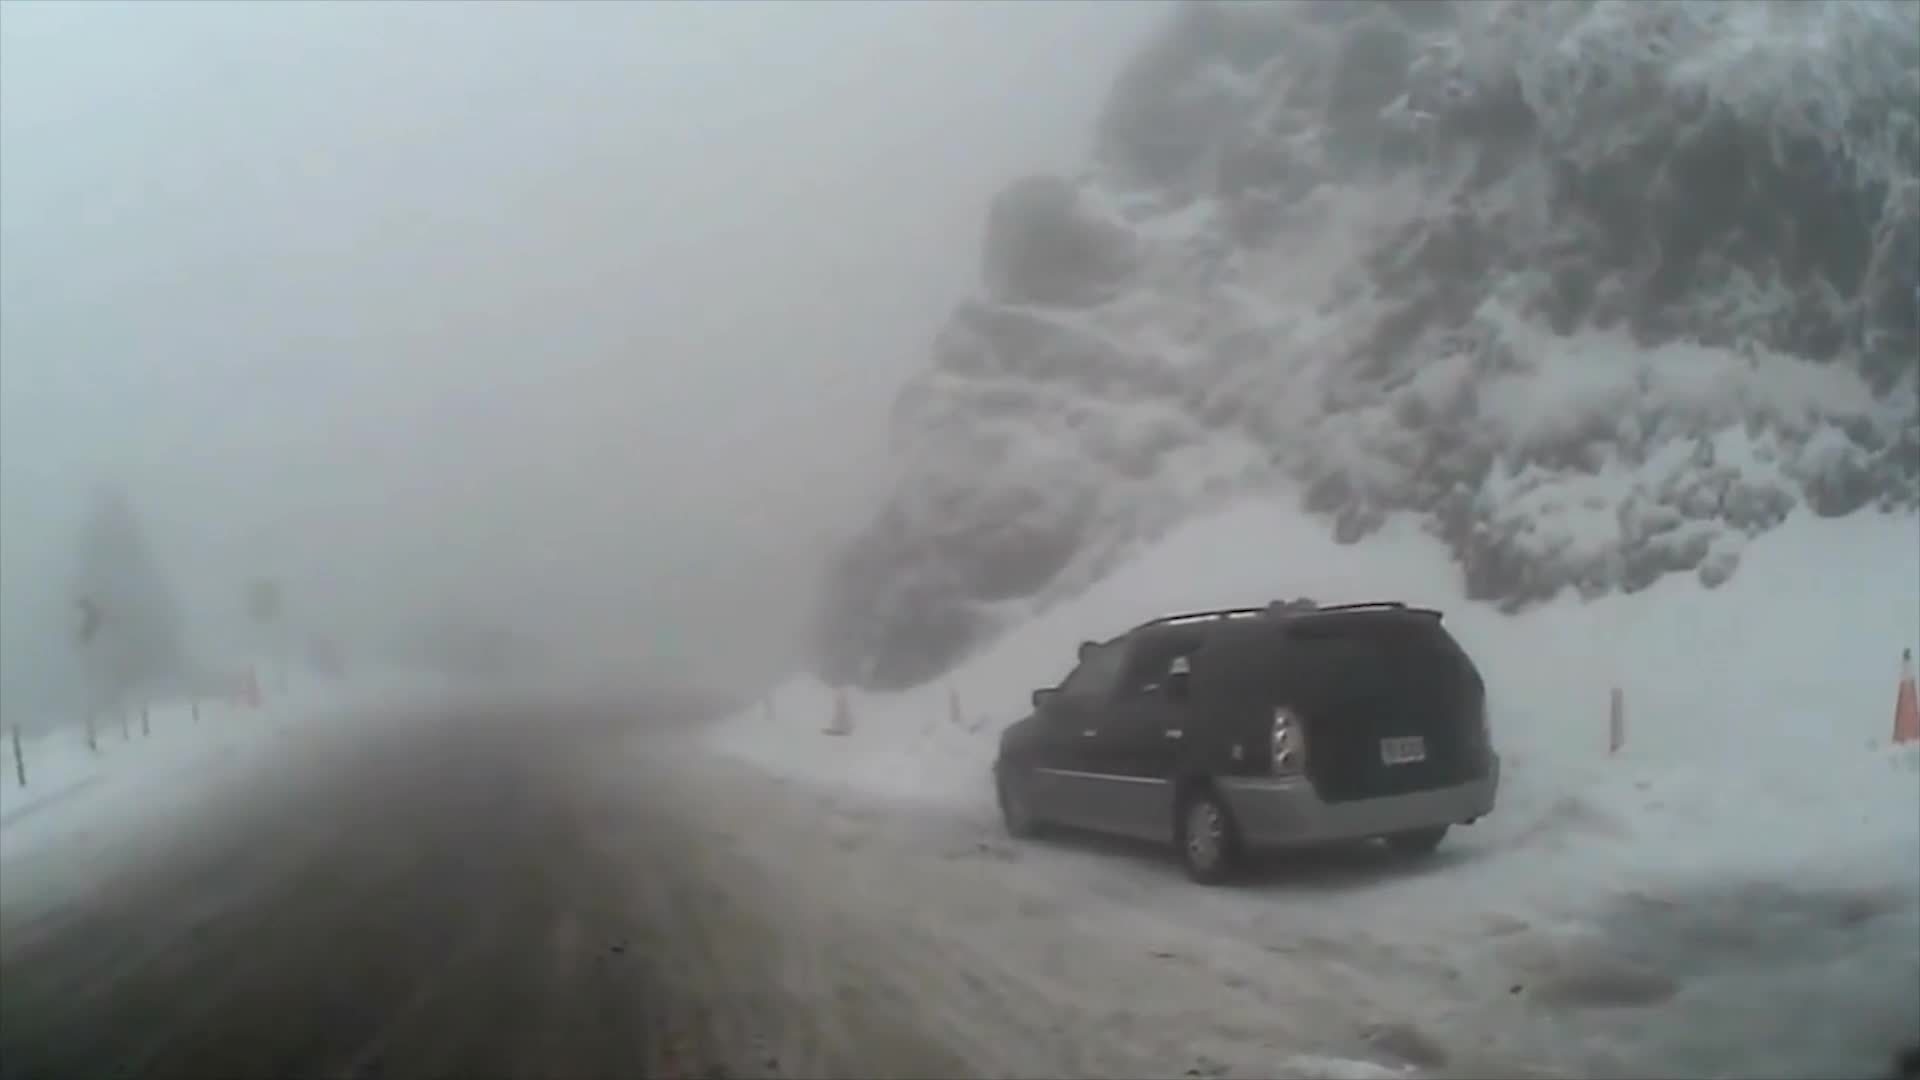vehicle: (990, 593, 1502, 884)
